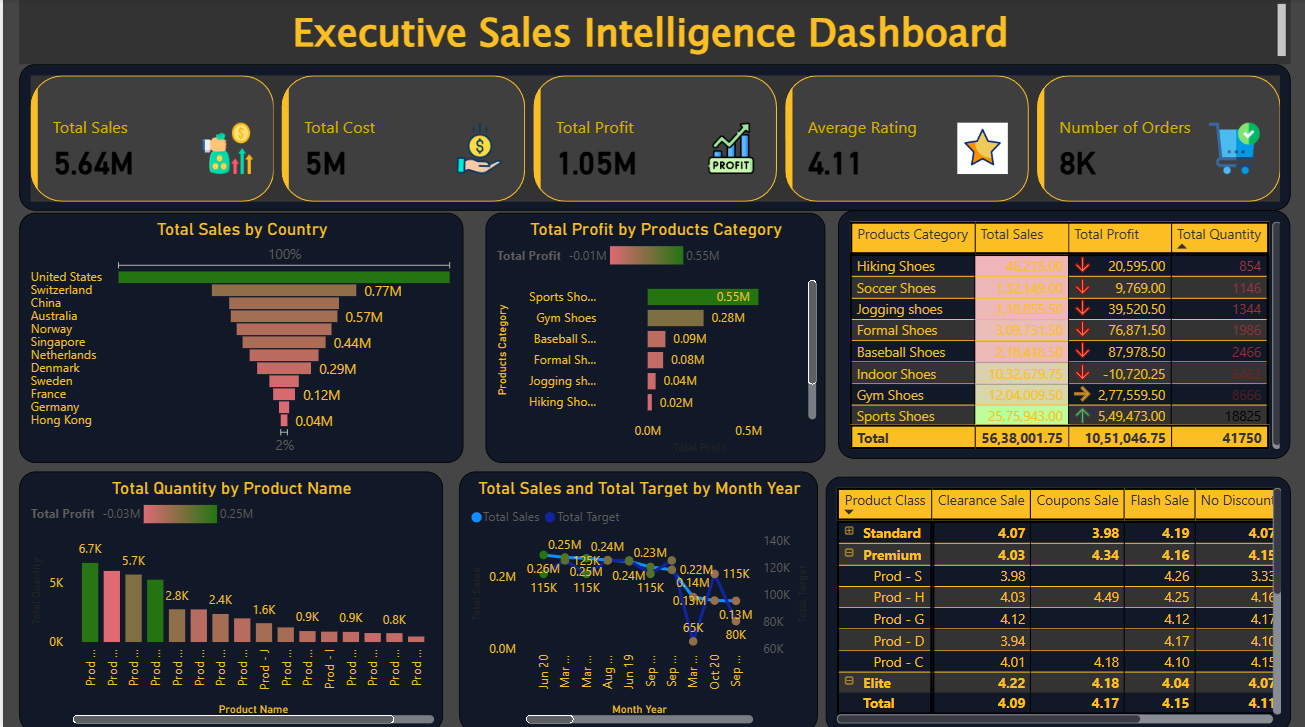

Layout of this report page (visuals, bound fields, positions):
{"tool":"powerbi","page":{"name":"Dashboard ","canvas":[1280,720],"ordinal":0},"visuals":[{"type":"cardVisual","fields":{"Data":["All measures.Total Sales","All measures.Total Cost","All measures.Total Profit","All measures.Average Rating","All measures.Number of Orders"]},"box":[16,64,1248,144],"z":0},{"type":"textbox","box":[16,0,1248,64],"z":1000},{"type":"funnel","fields":{"Category":["Location Details.Country"],"Y":["All measures.Total Sales"]},"box":[16,210.1,436.3,245.4],"z":2000},{"type":"barChart","fields":{"Category":["Products Details.Products Category"],"Y":["All measures.Total Profit"]},"box":[473.2,210.1,333.6,245.4],"z":3000},{"type":"columnChart","fields":{"Category":["Products Details.Product Name"],"Y":["All measures.Total Quantity"]},"box":[16,464,416,256],"z":4000},{"type":"lineChart","fields":{"Category":["calendar 2.Month Year"],"Y":["All measures.Total Sales"],"Y2":["All measures.Total Target"]},"box":[448,464,352,256],"z":5000},{"type":"tableEx","fields":{"Values":["Products Details.Products Category","All measures.Total Sales","All measures.Total Profit","All measures.Total Quantity"]},"box":[819.6,206.9,444.3,243.8],"z":6000},{"type":"pivotTable","fields":{"Rows":["Products Details.Product Class","Products Details.Product Name"],"Columns":["Discount Details.Discount Type"],"Values":["All measures.Average Rating"]},"box":[806.8,468.4,457.1,251.8],"z":7000}]}

Visuals, with their boxes in screenshot pixels (x1, y1, x2, y2), scaled from the page's 1280x720 canvas onto the 1305x727 screenshot:
cardVisual - All measures.Total Sales x All measures.Total Cost: box(16, 65, 1289, 210)
textbox: box(16, 0, 1289, 65)
funnel - Location Details.Country x All measures.Total Sales: box(16, 212, 461, 460)
barChart - Products Details.Products Category x All measures.Total Profit: box(482, 212, 823, 460)
columnChart - Products Details.Product Name x All measures.Total Quantity: box(16, 469, 440, 726)
lineChart - calendar 2.Month Year x All measures.Total Sales: box(457, 469, 816, 726)
tableEx - Products Details.Products Category x All measures.Total Sales: box(836, 209, 1289, 455)
pivotTable - Products Details.Product Class x Products Details.Product Name: box(823, 473, 1289, 726)
